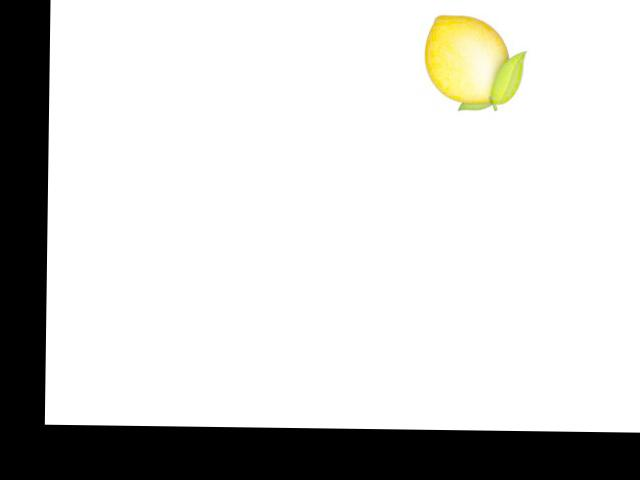lemon: (416, 9, 515, 114)
